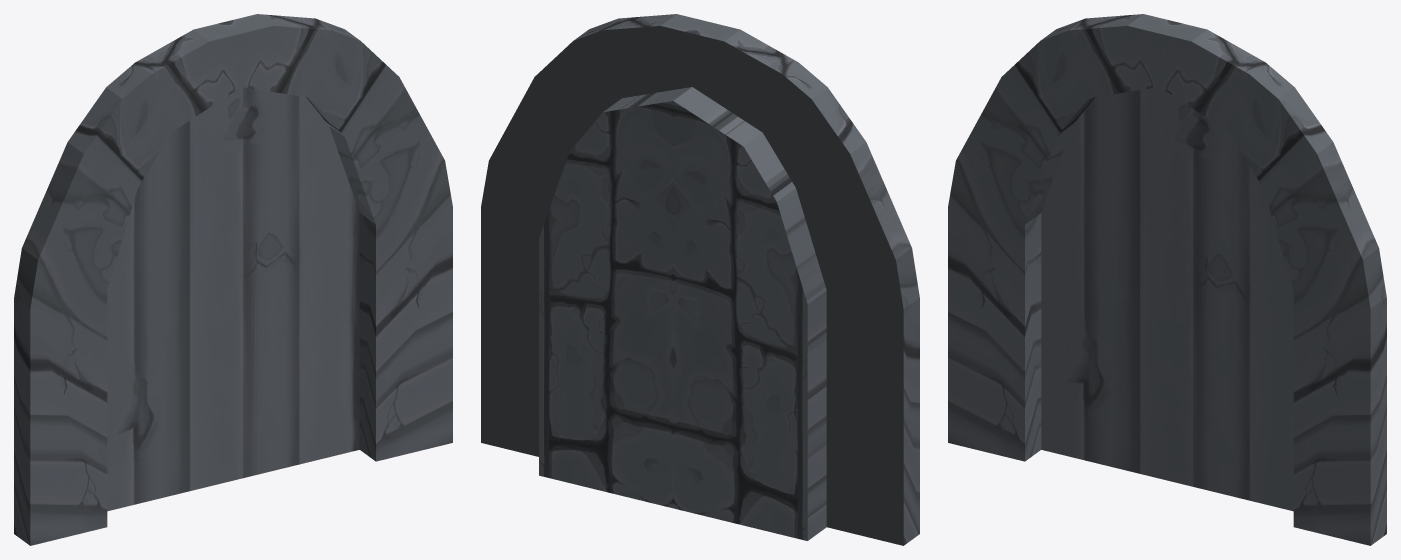
The model's file is Pintu wak(1).fbx.
3 renders of one model, left to right at view 1: azimuth 30°, elevation 25°; view 2: azimuth 150°, elevation 25°; view 3: azimuth 330°, elevation 25°, orthographic.
Parts seen in each view (by area): view 1: Plane; view 2: Plane; view 3: Plane.
Part boxes in pixels (x1,y1,x2,y2): Plane: (14,14,452,545); Plane: (481,14,919,545); Plane: (948,14,1386,545).
Size of the model in its own units: 280 by 292 by 40.51.
